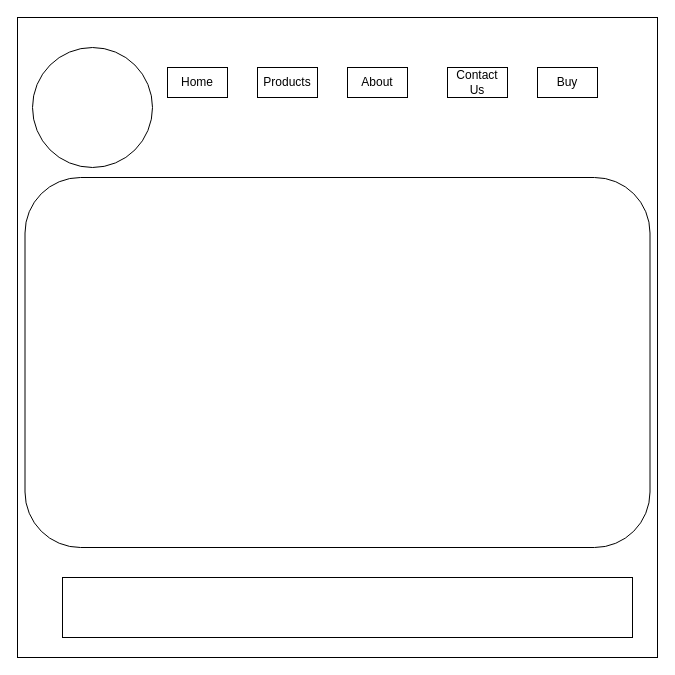
Some shapes in this 675 by 675 pixel diagram are drawn without their labels. The centre of each missing label's shape, as x and y in pixels:
"Footer" goes at point 347,607.
"Image Background Displaying some photos of the products and the location." goes at point 337,362.
"Logo/ Business Name" goes at point 92,107.
